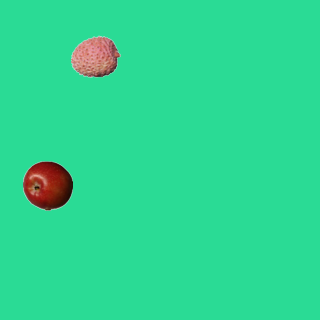Apple Braeburn: (22, 160, 72, 210)
Lychee: (70, 31, 120, 81)
